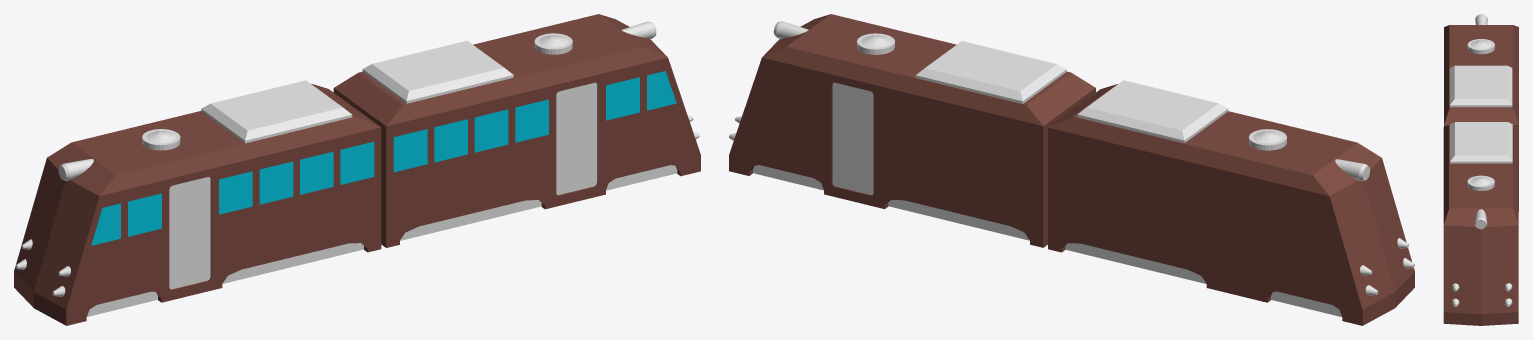
File: train 1.fbx
3 views of the same model, side by side, from view 1: azimuth 30°, elevation 25°; view 2: azimuth 150°, elevation 25°; view 3: azimuth 270°, elevation 25° (orthographic). The views are drawn at different scales.
Parts seen in each view (by area): view 1: trainCar, trainCar.001, topThing.001, topThing, Plane.003, Plane.002, door, door.002, frontWindow, wheels.001, wheels, Plane (+4 smaller); view 2: trainCar, trainCar.001, topThing, topThing.001, door.001, frontWindow, wheels, wheels.001; view 3: trainCar.001, trainCar, topThing, topThing.001, frontWindow.001, frontLight.001, frontLight, frontCyl1.001, frontCyl1.002.
Boxes of the visible parts, left/top/right/bottom form: trainCar: left=14, top=84, right=381, bottom=325; trainCar.001: left=333, top=14, right=700, bottom=247; topThing.001: left=362, top=33, right=572, bottom=103; topThing: left=142, top=80, right=352, bottom=150; Plane.003: left=393, top=99, right=548, bottom=172; Plane.002: left=219, top=141, right=374, bottom=214; door: left=169, top=177, right=210, bottom=289; door.002: left=556, top=82, right=597, bottom=194; frontWindow: left=33, top=168, right=91, bottom=249; wheels.001: left=400, top=165, right=677, bottom=240; wheels: left=87, top=243, right=363, bottom=316; Plane: left=128, top=193, right=161, bottom=236; trainCar: left=1048, top=84, right=1414, bottom=325; trainCar.001: left=729, top=14, right=1095, bottom=247; topThing: left=1077, top=80, right=1286, bottom=150; topThing.001: left=857, top=33, right=1066, bottom=103; door.001: left=832, top=82, right=873, bottom=194; frontWindow: left=1337, top=169, right=1395, bottom=249; wheels: left=1065, top=243, right=1341, bottom=316; wheels.001: left=753, top=165, right=1029, bottom=240; trainCar.001: left=1443, top=125, right=1518, bottom=325; trainCar: left=1444, top=25, right=1518, bottom=211; topThing: left=1449, top=39, right=1512, bottom=107; topThing.001: left=1450, top=122, right=1512, bottom=190; frontWindow.001: left=1449, top=231, right=1512, bottom=270; frontLight.001: left=1474, top=209, right=1487, bottom=229; frontLight: left=1475, top=14, right=1487, bottom=24; frontCyl1.001: left=1504, top=283, right=1512, bottom=306; frontCyl1.002: left=1452, top=283, right=1459, bottom=306.
Bounding box in the file's own units: 740 × 157 × 105.
